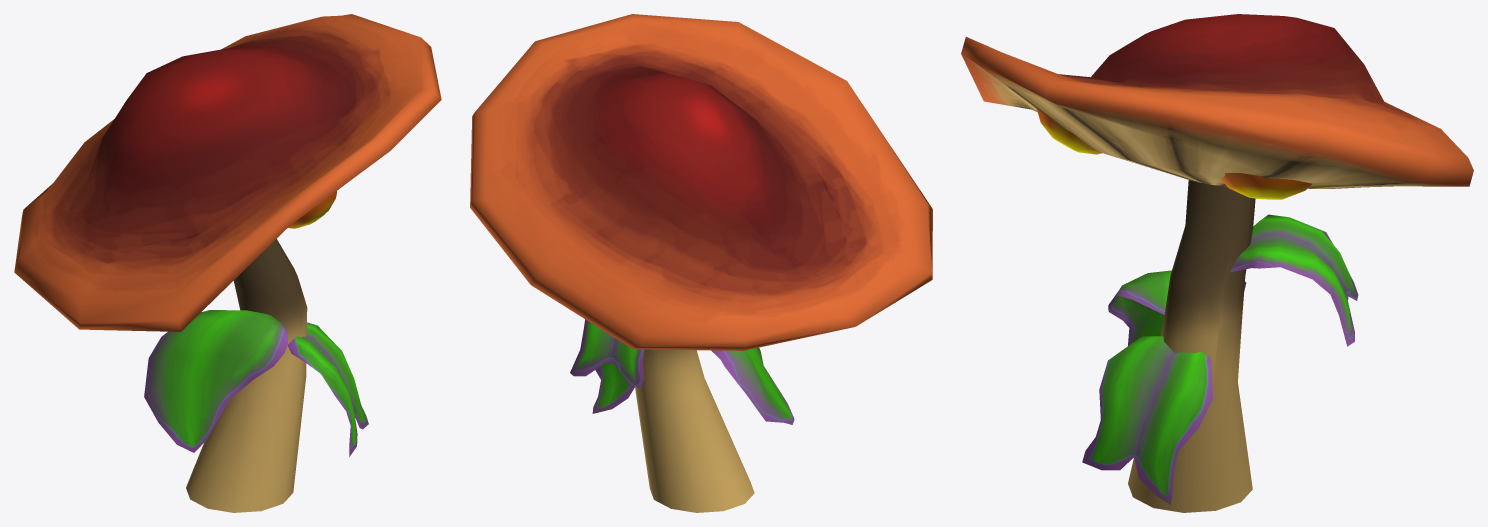
File: RedMushroom_Model.FBX
The picture shows the model from 3 angles, left to right: view 1: azimuth 30°, elevation 25°; view 2: azimuth 150°, elevation 25°; view 3: azimuth 270°, elevation 25°; orthographic projection. The views are drawn at different scales.
Parts seen in each view (by area): view 1: Object001; view 2: Object001; view 3: Object001.
Boxes of the visible parts, x1,y1,x2,y2 form: Object001: (14, 14, 441, 512); Object001: (470, 14, 932, 512); Object001: (961, 14, 1473, 512).
Bounding box in the file's own units: 29.87 × 31.22 × 30.01.
1 material, 1 textured.
